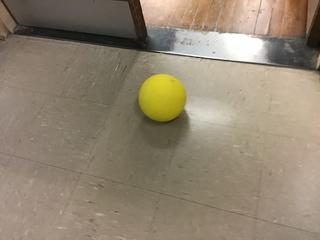power_cell: (125, 69, 192, 121)
